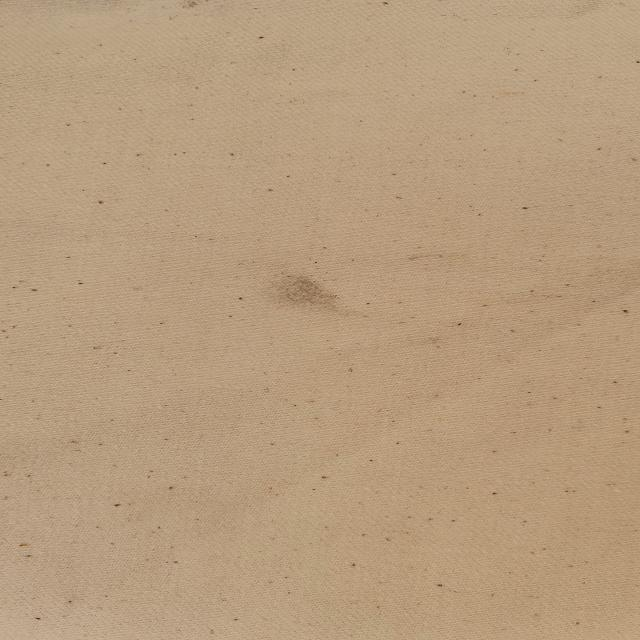taaaches: (253, 259, 369, 328)
